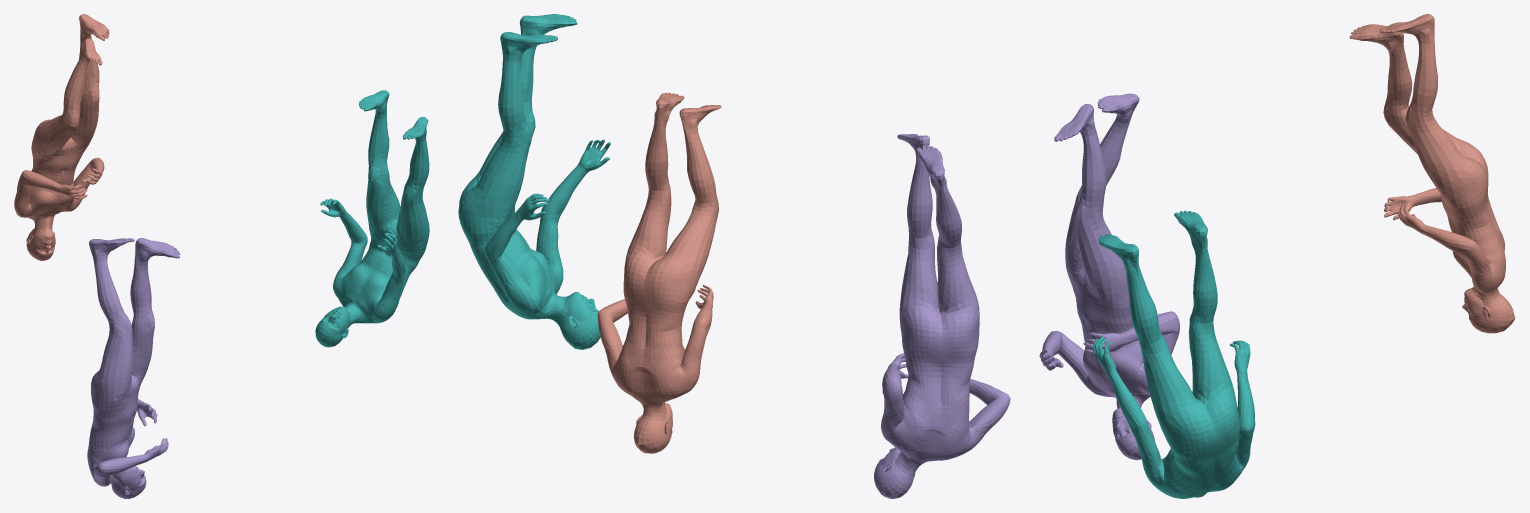
File: all_people_native_world.glb
3 views of the same model, side by side, from view 1: azimuth 30°, elevation 25°; view 2: azimuth 150°, elevation 25°; view 3: azimuth 270°, elevation 25° (orthographic). The views are drawn at different scales.
Visible parts, largest first — view 1: persistent_id_1_slot_2, persistent_id_2_slot_0, persistent_id_0_slot_1; view 2: persistent_id_2_slot_0, persistent_id_0_slot_1, persistent_id_1_slot_2; view 3: persistent_id_1_slot_2, persistent_id_0_slot_1, persistent_id_2_slot_0.
Boxes of the visible parts, <box> form: persistent_id_1_slot_2: <box>315,90,429,347</box>; persistent_id_2_slot_0: <box>87,237,180,498</box>; persistent_id_0_slot_1: <box>14,14,109,260</box>; persistent_id_2_slot_0: <box>874,134,1010,498</box>; persistent_id_0_slot_1: <box>597,92,721,453</box>; persistent_id_1_slot_2: <box>458,14,610,349</box>; persistent_id_1_slot_2: <box>1092,210,1255,498</box>; persistent_id_0_slot_1: <box>1349,14,1515,333</box>; persistent_id_2_slot_0: <box>1039,93,1179,460</box>.
Bounding box in the file's own units: 2.56 × 2.44 × 2.16.
